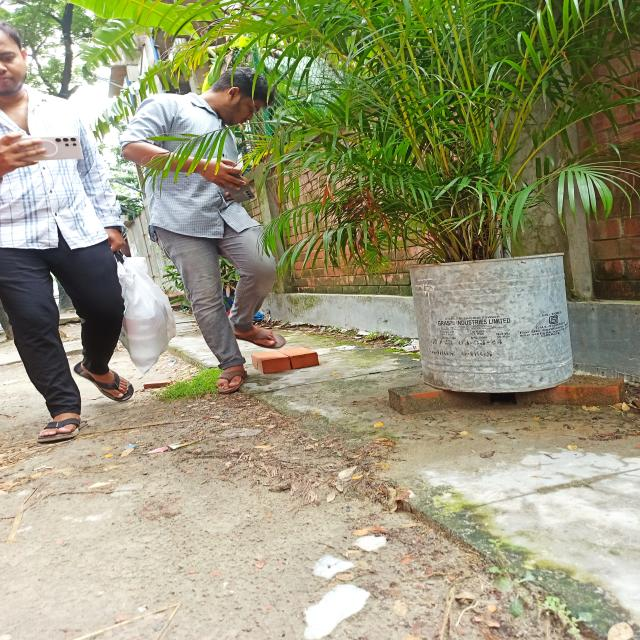artificial_container: (408, 251, 575, 394)
